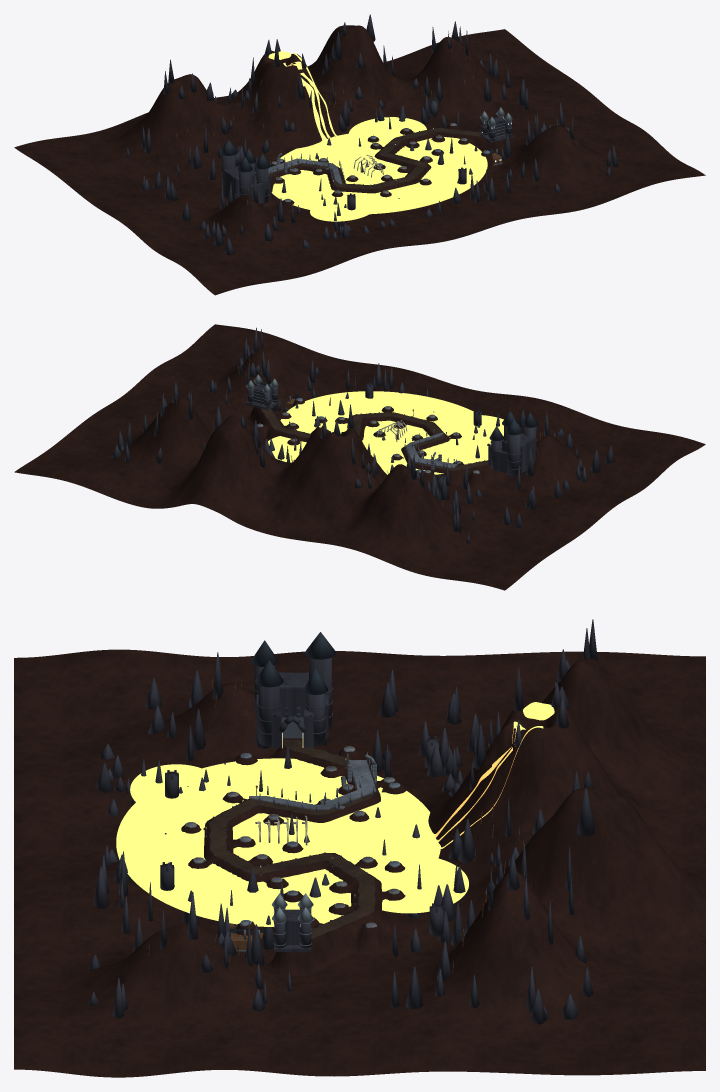
File: world_hell.glb
3 renders of one model, top to bottom at view 1: azimuth 30°, elevation 25°; view 2: azimuth 150°, elevation 25°; view 3: azimuth 270°, elevation 25°, orthographic. The views are drawn at different scales.
Visible parts, largest first — view 1: Mountain_ground.001, Basalt, Living_lava.001, Old_road_stones.001, Weathered_granite, Forged_black_iron; view 2: Mountain_ground.001, Basalt, Living_lava.001, Old_road_stones.001, Weathered_granite, Forged_black_iron; view 3: Mountain_ground.001, Living_lava.001, Basalt, Old_road_stones.001, Weathered_granite, Forged_black_iron, Old_oak.
Boxes of the visible parts, box(x1,y1,x2,y2) form: Mountain_ground.001: box(14, 25, 705, 295); Basalt: box(126, 14, 618, 255); Living_lava.001: box(268, 51, 487, 221); Old_road_stones.001: box(268, 128, 481, 189); Weathered_granite: box(268, 115, 511, 201); Forged_black_iron: box(220, 127, 498, 185); Mountain_ground.001: box(14, 324, 705, 590); Basalt: box(111, 327, 614, 543); Living_lava.001: box(268, 391, 503, 474); Old_road_stones.001: box(261, 408, 488, 470); Weathered_granite: box(247, 382, 479, 473); Forged_black_iron: box(270, 394, 537, 463); Mountain_ground.001: box(14, 649, 705, 1077); Living_lava.001: box(116, 702, 554, 926); Basalt: box(88, 619, 597, 1024); Old_road_stones.001: box(209, 740, 375, 938); Weathered_granite: box(185, 739, 400, 951); Forged_black_iron: box(205, 632, 355, 932); Old_oak: box(147, 679, 531, 973).
Size of the model in its own units: 210 by 42.26 by 149.
14 materials, 10 textured.
